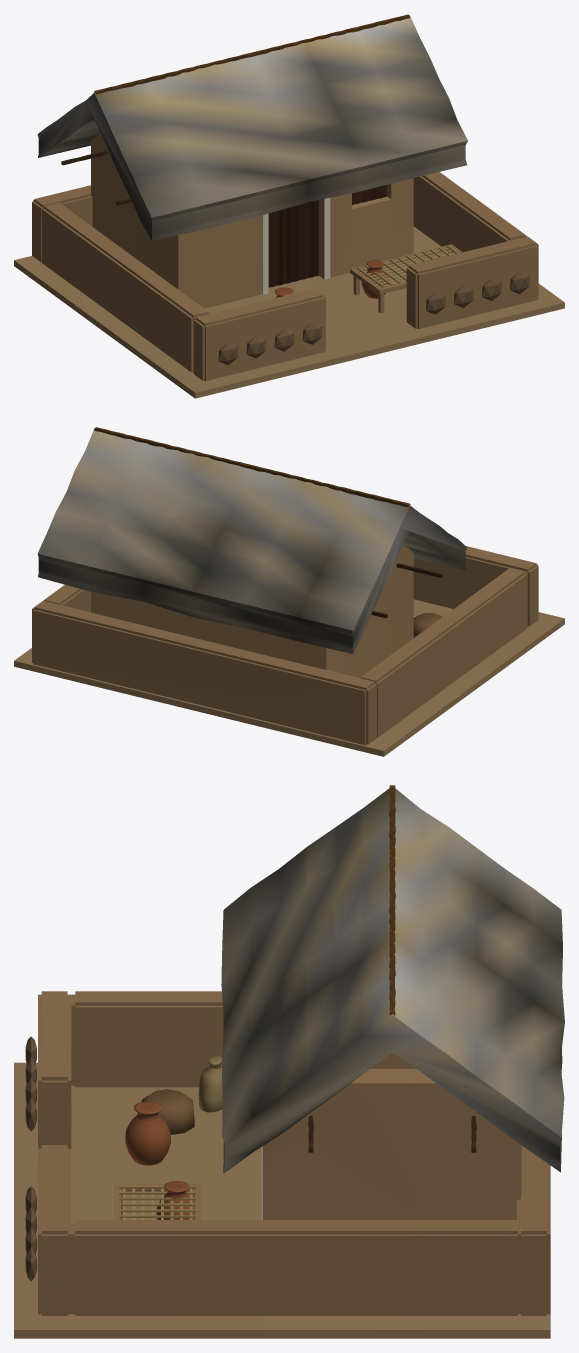
Rendered from house_kit_a.glb.
The picture shows the model from 3 angles, top to bottom: view 1: azimuth 30°, elevation 25°; view 2: azimuth 150°, elevation 25°; view 3: azimuth 270°, elevation 25°; orthographic projection. The views are drawn at different scales.
Parts seen in each view (by area): view 1: hb_main, hb_thatch, hb_props; view 2: hb_main, hb_thatch, hb_props; view 3: hb_main, hb_thatch, hb_props.
Boxes of the visible parts, bbox=[...] form: hb_main: bbox=[14, 133, 564, 398]; hb_thatch: bbox=[37, 16, 467, 240]; hb_props: bbox=[61, 14, 462, 313]; hb_main: bbox=[14, 545, 564, 756]; hb_thatch: bbox=[37, 429, 466, 653]; hb_props: bbox=[94, 427, 442, 618]; hb_main: bbox=[14, 991, 550, 1338]; hb_thatch: bbox=[221, 788, 564, 1173]; hb_props: bbox=[114, 785, 476, 1219].
Size of the model in its own units: 6.6 by 3.53 by 5.75.
